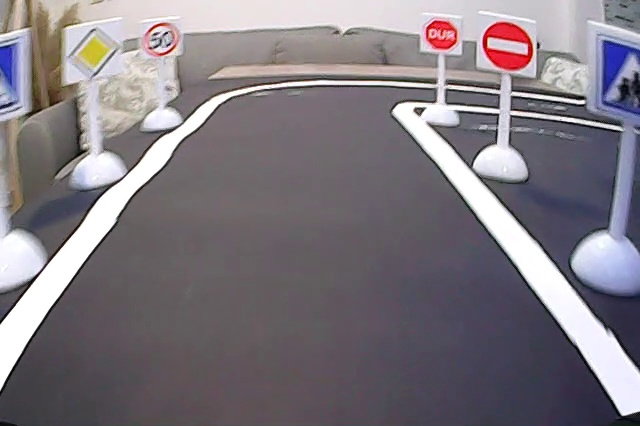do not enter: (480, 15, 538, 74)
school crossing: (590, 25, 640, 120)
speed limit 50: (144, 20, 184, 55)
stop sign: (420, 14, 460, 55)
